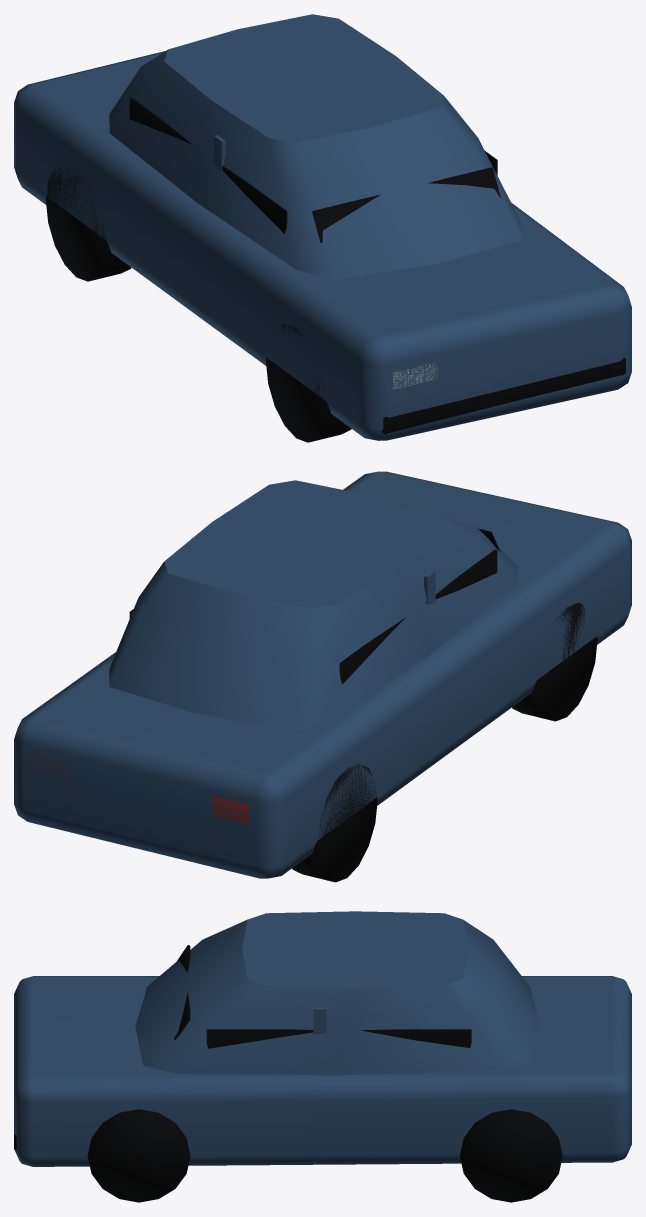
Rendered from car-broken.glb.
The picture shows the model from 3 angles, top to bottom: view 1: azimuth 30°, elevation 25°; view 2: azimuth 150°, elevation 25°; view 3: azimuth 270°, elevation 25°; orthographic projection. The views are drawn at different scales.
Parts seen in each view (by area): view 1: car-broken; view 2: car-broken; view 3: car-broken.
Part boxes in pixels (left/top/right/bottom): car-broken: left=14, top=14, right=631, bottom=442; car-broken: left=14, top=471, right=631, bottom=882; car-broken: left=14, top=911, right=631, bottom=1202.
Bounding box in the file's own units: 1.8 × 1.48 × 4.2.
1 material, 1 textured.
